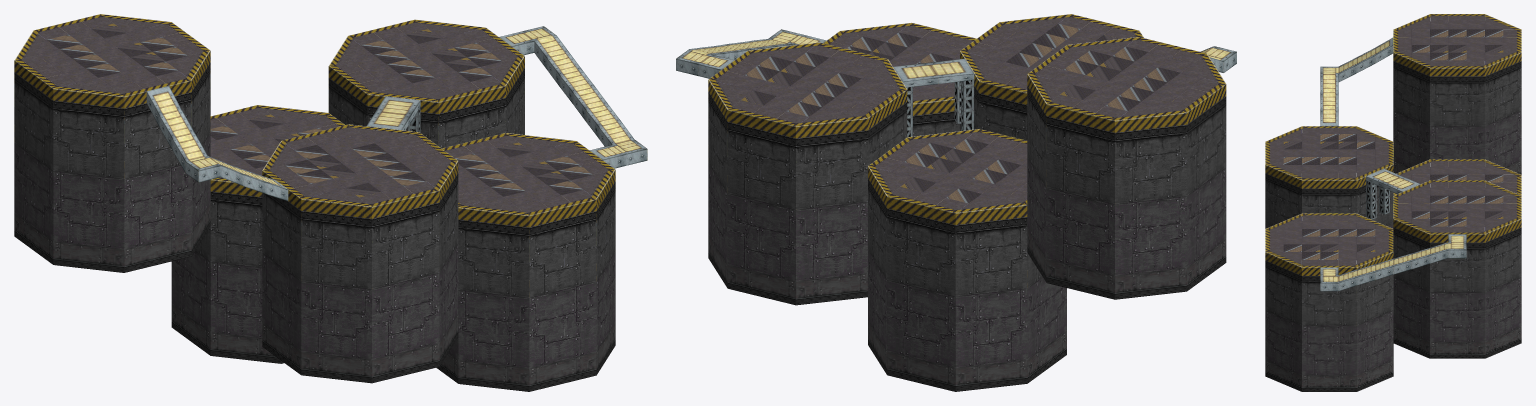
The model's file is test-zone2.glb.
The picture shows the model from 3 angles, left to right: view 1: azimuth 30°, elevation 25°; view 2: azimuth 150°, elevation 25°; view 3: azimuth 270°, elevation 25°; orthographic projection. The views are drawn at different scales.
Parts seen in each view (by area): view 1: Frame_0.011; view 2: Frame_0.011; view 3: Frame_0.011.
Part boxes in pixels (x1,y1,x2,y2): Frame_0.011: [14, 14, 647, 391]; Frame_0.011: [676, 14, 1236, 391]; Frame_0.011: [1265, 14, 1521, 391].
Bounding box in the file's own units: 115 × 65 × 70.
1 material, 1 textured.
